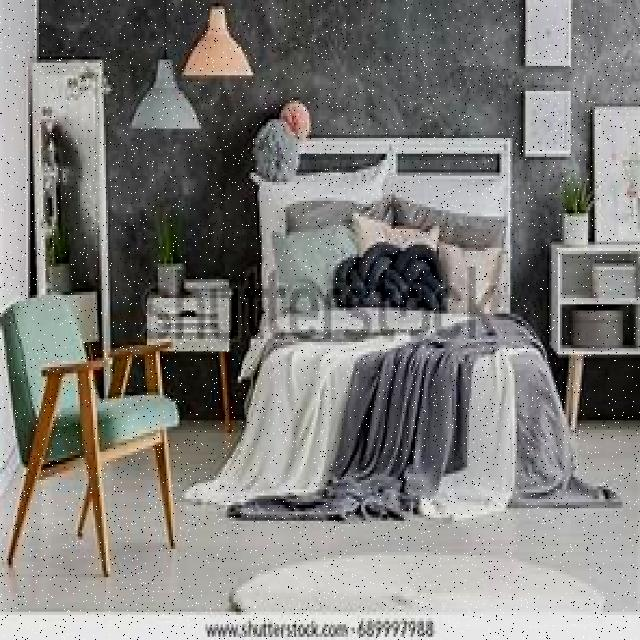bed: (237, 212, 579, 508)
